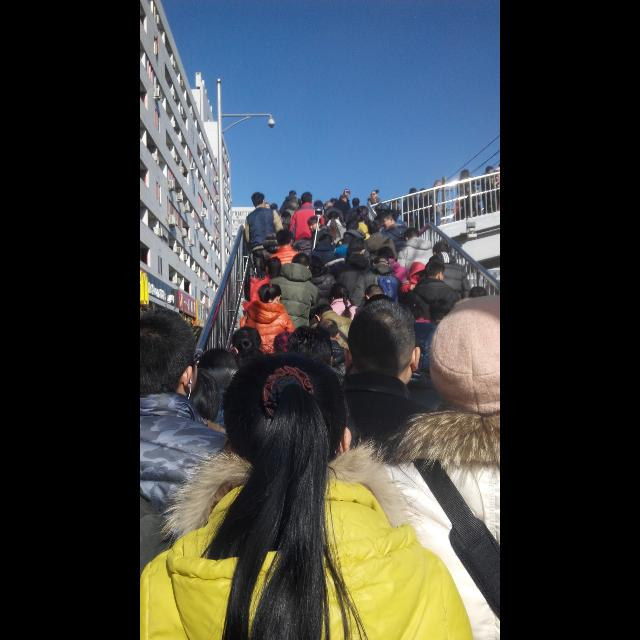head: (221, 351, 351, 487), (343, 300, 422, 390), (342, 300, 422, 388), (140, 306, 200, 400), (178, 365, 220, 431), (316, 319, 340, 343), (404, 296, 426, 322), (263, 282, 283, 308), (425, 260, 445, 284), (411, 263, 431, 285), (314, 302, 334, 324), (330, 282, 350, 302), (380, 209, 398, 231), (364, 284, 386, 302), (372, 254, 392, 272), (292, 252, 310, 272), (348, 237, 366, 256), (404, 228, 422, 246), (433, 242, 451, 260), (266, 256, 282, 276), (278, 230, 294, 246), (378, 247, 394, 263), (298, 240, 314, 256), (308, 256, 322, 274), (252, 192, 266, 208), (355, 206, 369, 222), (308, 217, 322, 233), (317, 235, 333, 247), (300, 192, 314, 205), (368, 222, 380, 236), (346, 219, 360, 231), (376, 204, 389, 216), (280, 212, 292, 224), (328, 211, 340, 223), (410, 188, 418, 198), (370, 190, 378, 200), (352, 198, 360, 208), (340, 194, 348, 203), (486, 166, 494, 174), (462, 170, 470, 178), (435, 181, 443, 189), (420, 189, 428, 197), (326, 202, 334, 210), (289, 190, 297, 198), (344, 189, 350, 199)
person: (395, 296, 473, 458), (264, 251, 326, 394), (402, 259, 466, 396), (349, 282, 416, 412), (298, 318, 356, 464), (304, 301, 366, 433), (236, 280, 300, 402), (349, 253, 407, 385), (420, 238, 476, 359), (240, 254, 296, 370), (329, 236, 378, 360), (392, 227, 448, 329), (296, 254, 342, 372), (376, 208, 426, 316), (364, 244, 416, 346), (264, 227, 312, 337), (357, 219, 405, 327), (320, 281, 364, 389), (244, 191, 288, 291), (397, 258, 441, 342), (304, 234, 344, 326), (369, 201, 413, 283), (286, 191, 326, 277), (344, 204, 384, 290), (290, 236, 324, 316), (305, 214, 335, 296), (266, 210, 302, 278), (340, 217, 368, 293), (320, 210, 352, 274), (278, 189, 308, 247), (344, 196, 371, 254), (455, 168, 483, 222), (418, 178, 444, 232), (322, 200, 346, 252), (400, 186, 422, 242), (331, 194, 353, 242), (417, 187, 439, 233), (480, 164, 498, 216), (365, 188, 385, 232), (336, 188, 354, 235)
